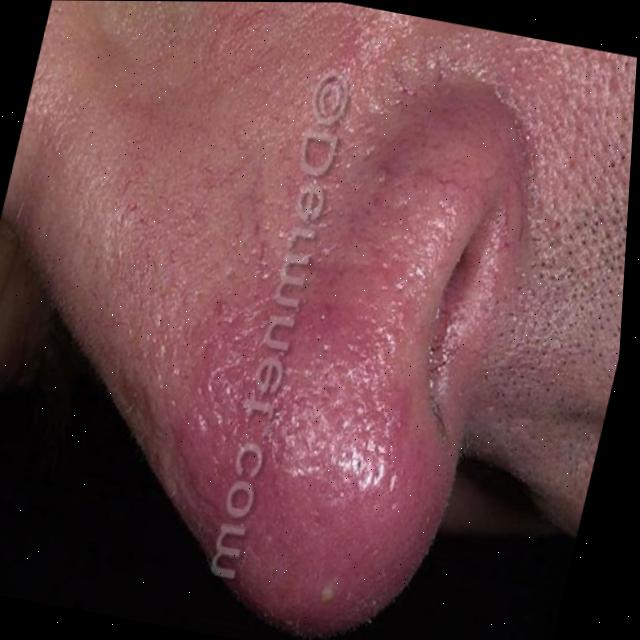Rosacea: (120, 143, 514, 638)
